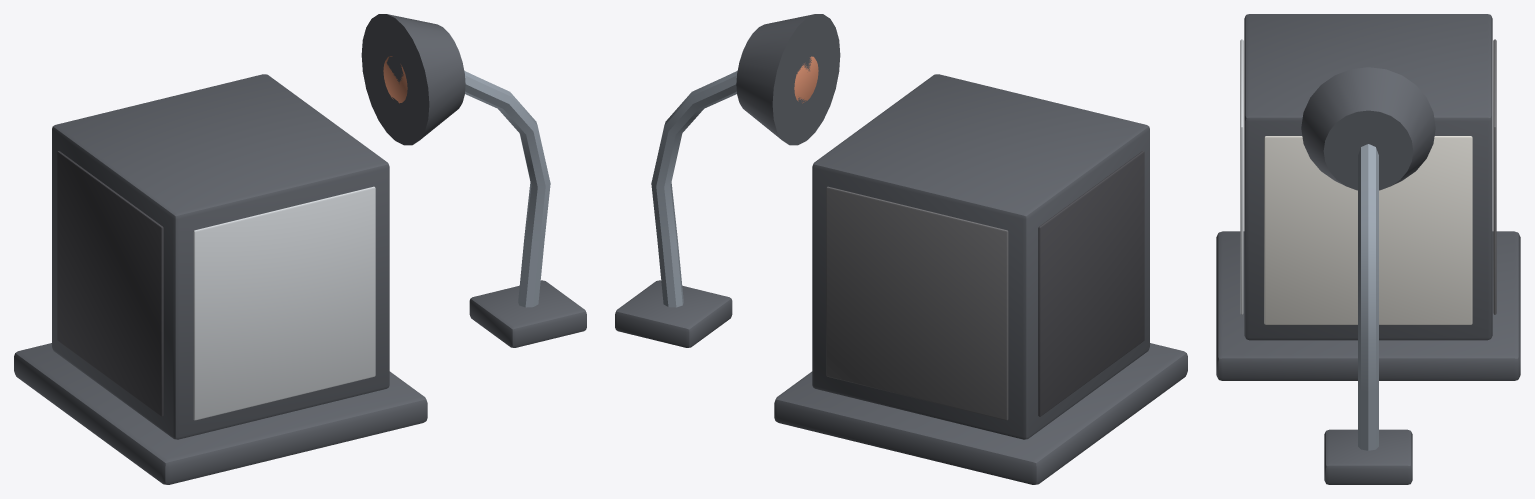
File: radiation_apparatus.glb
3 views of the same model, side by side, from view 1: azimuth 30°, elevation 25°; view 2: azimuth 150°, elevation 25°; view 3: azimuth 270°, elevation 25° (orthographic).
Visible parts, largest first — view 1: Leslie_Body, Leslie_Face_Silver, Leslie_Face_Black, Leslie_Base, IR_Lamp_Shade, IR_Lamp_Stem, IR_Lamp_Base, IR_Bulb; view 2: Leslie_Body, Leslie_Face_Matte, Leslie_Face_Black, Leslie_Base, IR_Lamp_Shade, IR_Lamp_Stem, IR_Lamp_Base, IR_Bulb; view 3: Leslie_Body, Leslie_Face_White, Leslie_Base, IR_Lamp_Shade, IR_Lamp_Stem, IR_Lamp_Base, Leslie_Face_Matte, Leslie_Face_Silver.
Boxes of the visible parts, left/top/right/bottom form: Leslie_Body: left=52, top=74, right=389, bottom=439; Leslie_Face_Silver: left=193, top=186, right=375, bottom=420; Leslie_Face_Black: left=57, top=151, right=163, bottom=416; Leslie_Base: left=14, top=343, right=427, bottom=484; IR_Lamp_Shade: left=361, top=14, right=465, bottom=145; IR_Lamp_Stem: left=464, top=71, right=550, bottom=307; IR_Lamp_Base: left=469, top=280, right=586, bottom=347; IR_Bulb: left=383, top=56, right=407, bottom=103; Leslie_Body: left=812, top=74, right=1149, bottom=439; Leslie_Face_Matte: left=826, top=186, right=1008, bottom=420; Leslie_Face_Black: left=1038, top=151, right=1144, bottom=416; Leslie_Base: left=774, top=343, right=1187, bottom=484; IR_Lamp_Shade: left=736, top=14, right=840, bottom=145; IR_Lamp_Stem: left=651, top=71, right=737, bottom=307; IR_Lamp_Base: left=615, top=280, right=732, bottom=347; IR_Bulb: left=794, top=56, right=818, bottom=103; Leslie_Body: left=1244, top=14, right=1492, bottom=340; Leslie_Face_White: left=1264, top=136, right=1472, bottom=324; Leslie_Base: left=1216, top=231, right=1520, bottom=380; IR_Lamp_Shade: left=1301, top=67, right=1435, bottom=190; IR_Lamp_Stem: left=1358, top=144, right=1378, bottom=450; IR_Lamp_Base: left=1324, top=429, right=1412, bottom=484; Leslie_Face_Matte: left=1493, top=39, right=1496, bottom=314; Leslie_Face_Silver: left=1240, top=39, right=1243, bottom=314.
Bounding box in the file's own units: 3.43 × 2.32 × 1.9.
